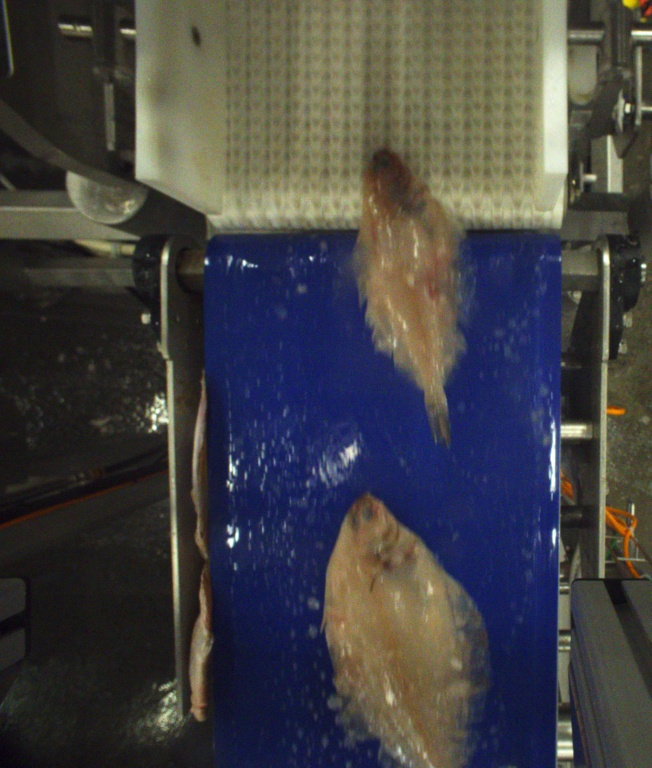WIT: (325, 494, 487, 768)
